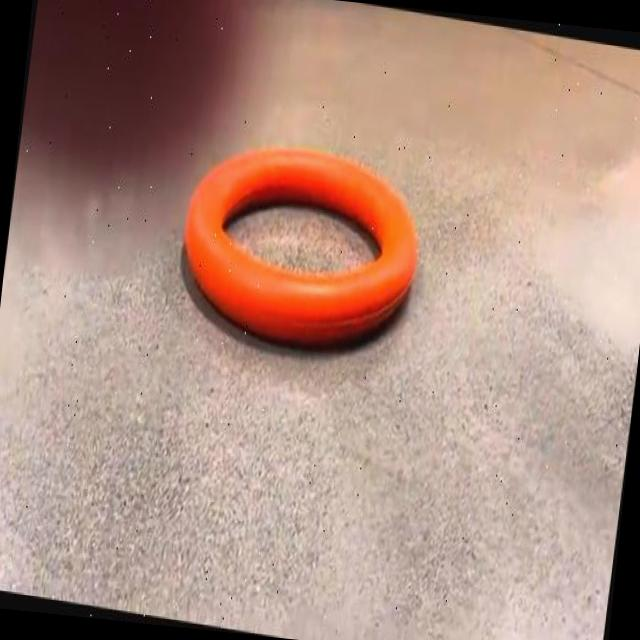note: (184, 149, 417, 345)
